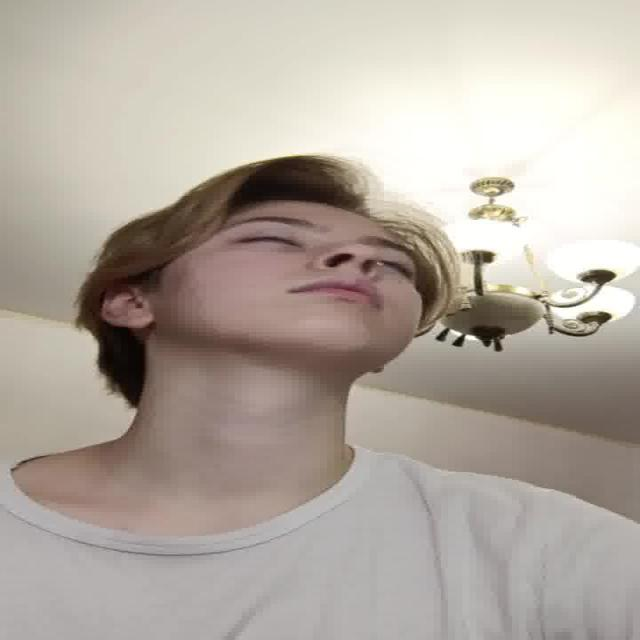earlobe: (100, 281, 156, 330)
